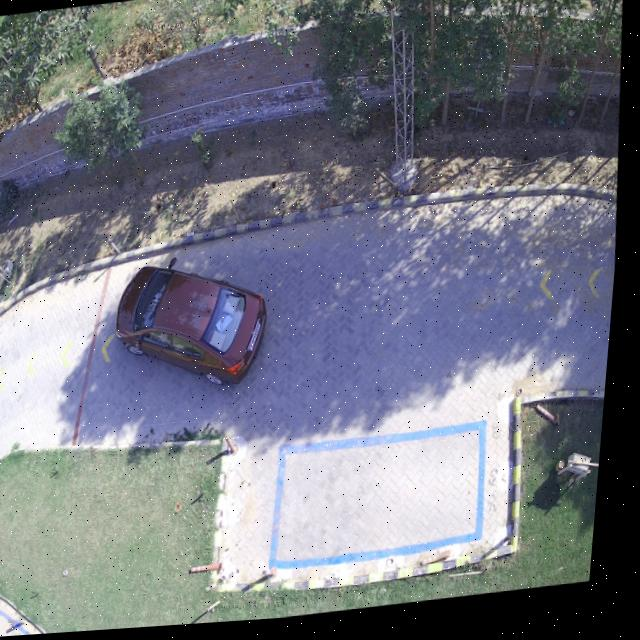car: (121, 268, 273, 389)
